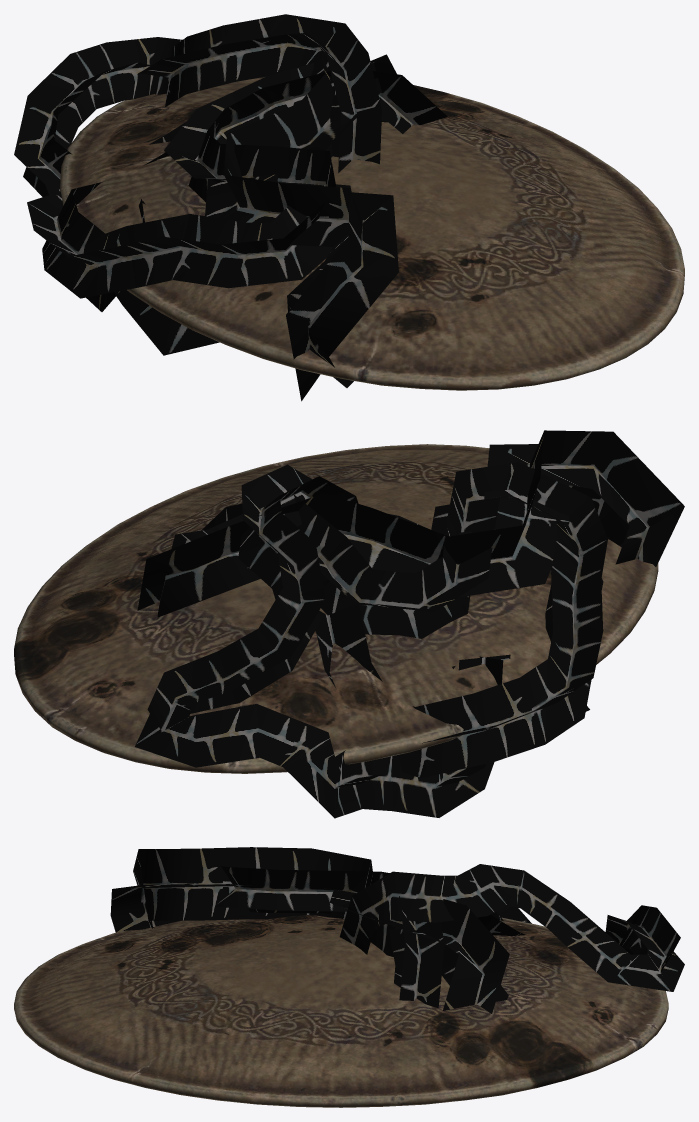
Rendered from marredleathershield.fbx.
3 views of the same model, one above another, from view 1: azimuth 30°, elevation 25°; view 2: azimuth 150°, elevation 25°; view 3: azimuth 270°, elevation 25° (orthographic). The views are drawn at different scales.
Parts seen in each view (by area): view 1: WP_A_2101, WP_A_2101.001; view 2: WP_A_2101.001, WP_A_2101; view 3: WP_A_2101, WP_A_2101.001.
Boxes of the visible parts, x1,y1,x2,y2 form: WP_A_2101: [60, 76, 684, 390]; WP_A_2101.001: [14, 14, 447, 401]; WP_A_2101.001: [135, 430, 684, 818]; WP_A_2101: [14, 444, 658, 773]; WP_A_2101: [14, 915, 668, 1107]; WP_A_2101.001: [110, 847, 684, 1013].
Bounding box in the file's own units: 50.08 × 22.1 × 67.63.
2 materials, 2 textured.
